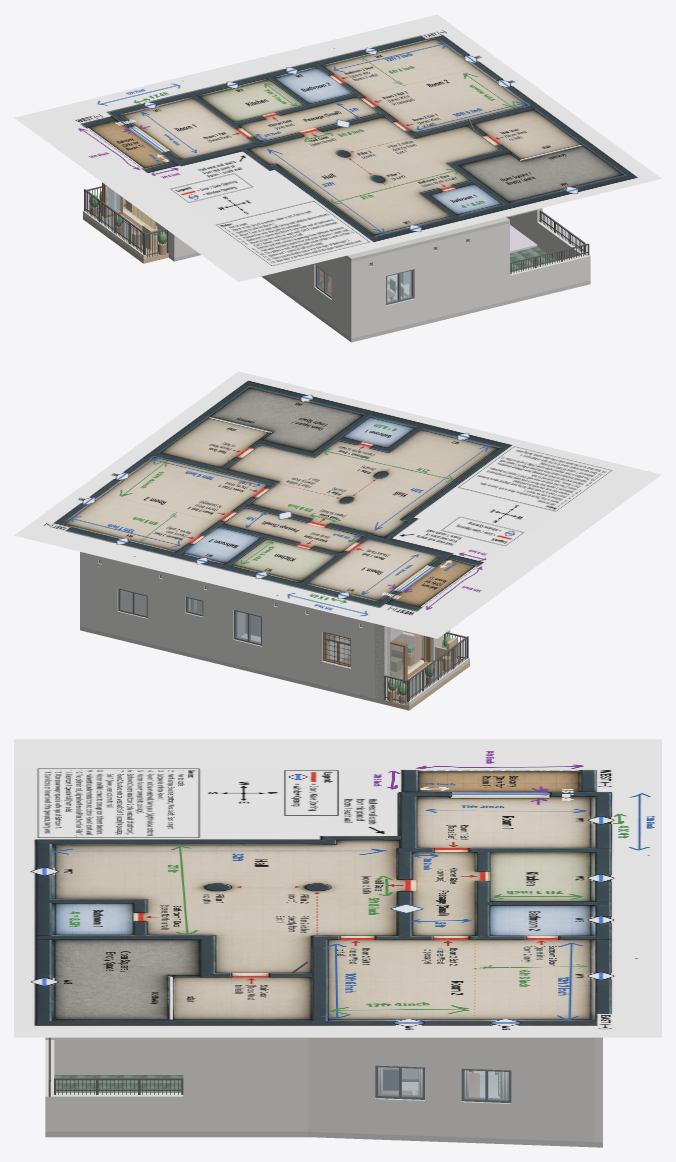
Rendered from MyFlat_V2_Hall_Marble.glb.
3 renders of one model, top to bottom at view 1: azimuth 30°, elevation 25°; view 2: azimuth 150°, elevation 25°; view 3: azimuth 270°, elevation 25°, orthographic. The views are drawn at different scales.
Visible parts, largest first — view 1: PLAN_REFERENCE_OVERLAY, WALL_EXT_S_HALL, WALL_EXT_W_HALL, PARAPET_OPENSQ_S, SLAB_FLOOR_STRUCTURAL, BALCONY_RAILING_W, SLAB_ROOF, PARAPET_OPENSQ_E, RAILING_OPENSQ_S, WALL_EXT_E_STAIR, HM_OPENSQ_FINISH, WINDOW_W7_GLASS (+1 smaller); view 2: PLAN_REFERENCE_OVERLAY, WALL_EXT_N_R1, WALL_EXT_N_R2, WALL_EXT_N_KIT, WALL_EXT_N_B2, BALCONY_RAILING_W, SLAB_FLOOR_STRUCTURAL, PILLAR_R1_NW, WINDOW_W2_GLASS, WALL_EXT_W_R1_BALCONY, R1_OPC_BALCONY_CURTAIN_SHEER; view 3: PLAN_REFERENCE_OVERLAY, WALL_EXT_E_R2_TAPERED, WALL_EXT_E_STAIR, PARAPET_OPENSQ_E, WALL_INT_OPENSQ_W, SLAB_FLOOR_STRUCTURAL, HM_OPENSQ_FINISH, WINDOW_W5_GLASS, WINDOW_W6_GLASS, RAILING_OPENSQ_E, WALL_EXT_N_R2, PARAPET_OPENSQ_S (+2 smaller).
Boxes of the visible parts, x1,y1,x2,y2 form: PLAN_REFERENCE_OVERLAY: (14, 14, 661, 281); WALL_EXT_S_HALL: (348, 223, 509, 338); WALL_EXT_W_HALL: (265, 256, 356, 338); PARAPET_OPENSQ_S: (510, 254, 590, 299); SLAB_FLOOR_STRUCTURAL: (168, 252, 590, 342); BALCONY_RAILING_W: (84, 189, 145, 254); SLAB_ROOF: (344, 217, 509, 261); PARAPET_OPENSQ_E: (537, 221, 587, 260); RAILING_OPENSQ_S: (510, 243, 589, 274); WALL_EXT_E_STAIR: (507, 208, 542, 244); HM_OPENSQ_FINISH: (510, 246, 556, 272); WINDOW_W7_GLASS: (387, 271, 411, 302); PLAN_REFERENCE_OVERLAY: (14, 371, 661, 638); WALL_EXT_N_R1: (283, 601, 387, 700); WALL_EXT_N_R2: (80, 553, 176, 649); WALL_EXT_N_KIT: (211, 584, 283, 676); WALL_EXT_N_B2: (177, 575, 211, 658); BALCONY_RAILING_W: (407, 636, 468, 701); SLAB_FLOOR_STRUCTURAL: (80, 626, 384, 704); PILLAR_R1_NW: (374, 623, 390, 700); WINDOW_W2_GLASS: (236, 611, 260, 642); WALL_EXT_W_R1_BALCONY: (375, 624, 449, 698); R1_OPC_BALCONY_CURTAIN_SHEER: (394, 631, 421, 668); PLAN_REFERENCE_OVERLAY: (14, 739, 661, 1037); WALL_EXT_E_R2_TAPERED: (307, 1037, 594, 1141); WALL_EXT_E_STAIR: (183, 1037, 307, 1131); PARAPET_OPENSQ_E: (54, 1093, 183, 1131); WALL_INT_OPENSQ_W: (54, 1037, 183, 1074); SLAB_FLOOR_STRUCTURAL: (45, 1131, 602, 1147); HM_OPENSQ_FINISH: (54, 1075, 183, 1092); WINDOW_W5_GLASS: (464, 1070, 508, 1099); WINDOW_W6_GLASS: (378, 1067, 422, 1096); RAILING_OPENSQ_E: (54, 1078, 183, 1094); WALL_EXT_N_R2: (594, 1037, 602, 1142); PARAPET_OPENSQ_S: (45, 1040, 54, 1131).
Size of what is drawn, in the model's own units: 18.03 by 4.33 by 16.55.
122 materials, 5 textured.
